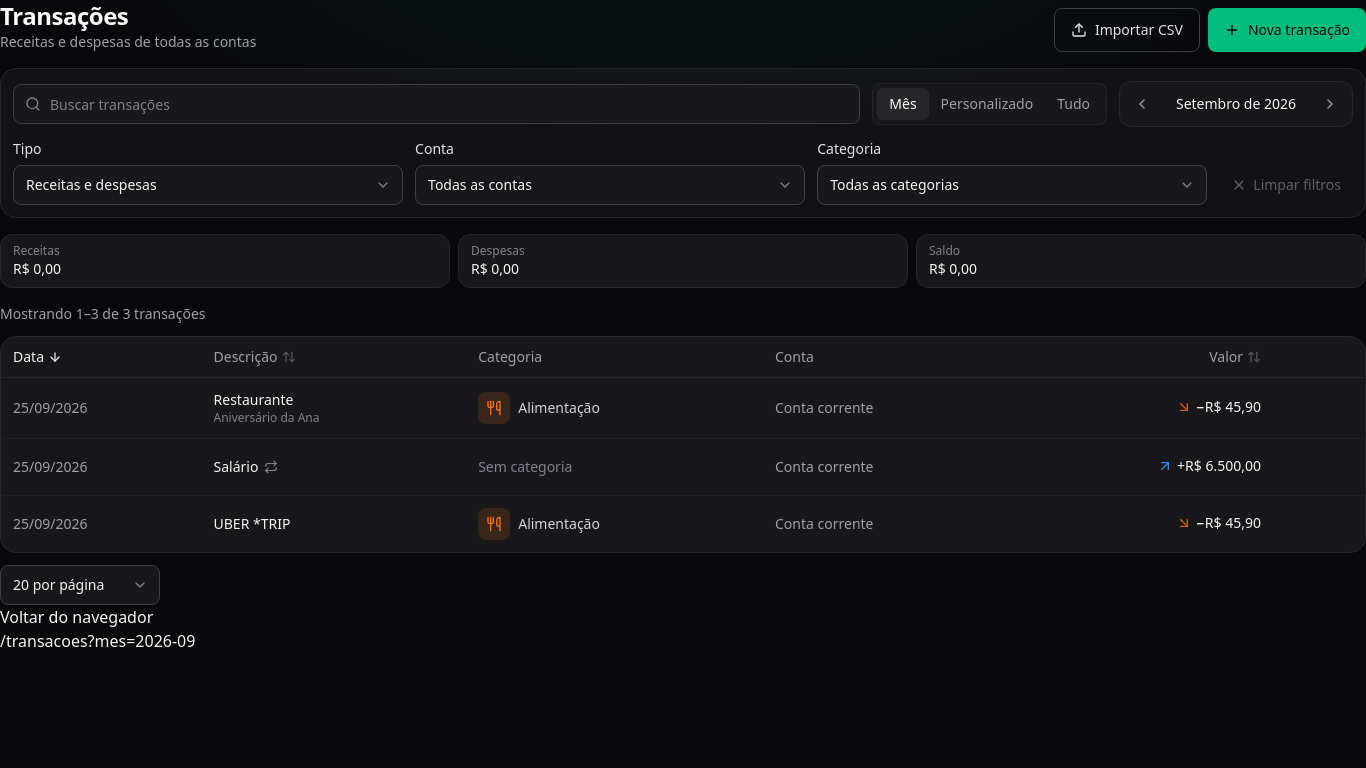
Test: transaction detail drawer › links to the recurrence that generated it, and back
Click the button "Salário" at (236, 467), box [214,457,258,477]
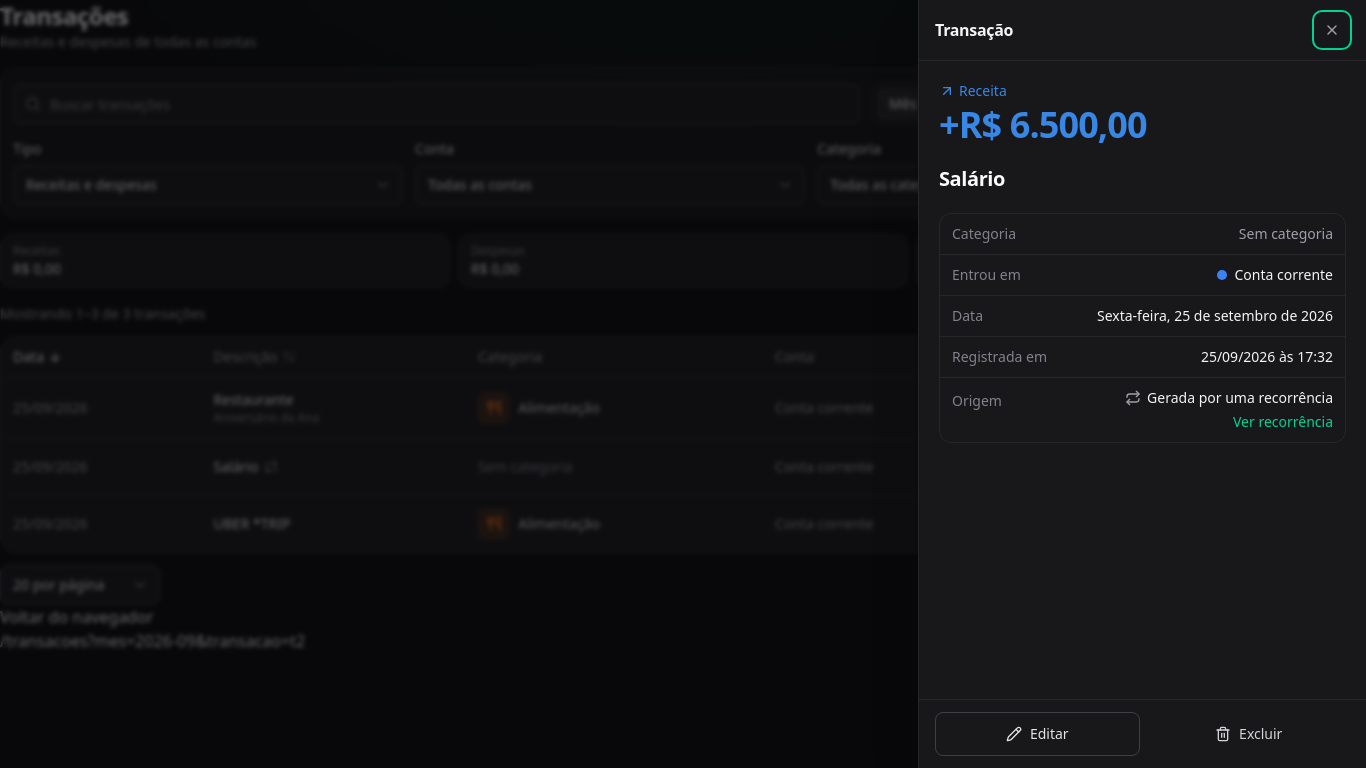
expect the dialog named "Detalhes da transação: Salário" shows "Entrou em": met, box [952,265,1021,284]
expect the dialog named "Detalhes da transação: Salário" shows "Gerada por uma recorrência": met, box [1147,388,1333,407]
Click the link "Ver recorrência" at (1283, 422), box [1233,412,1333,432]
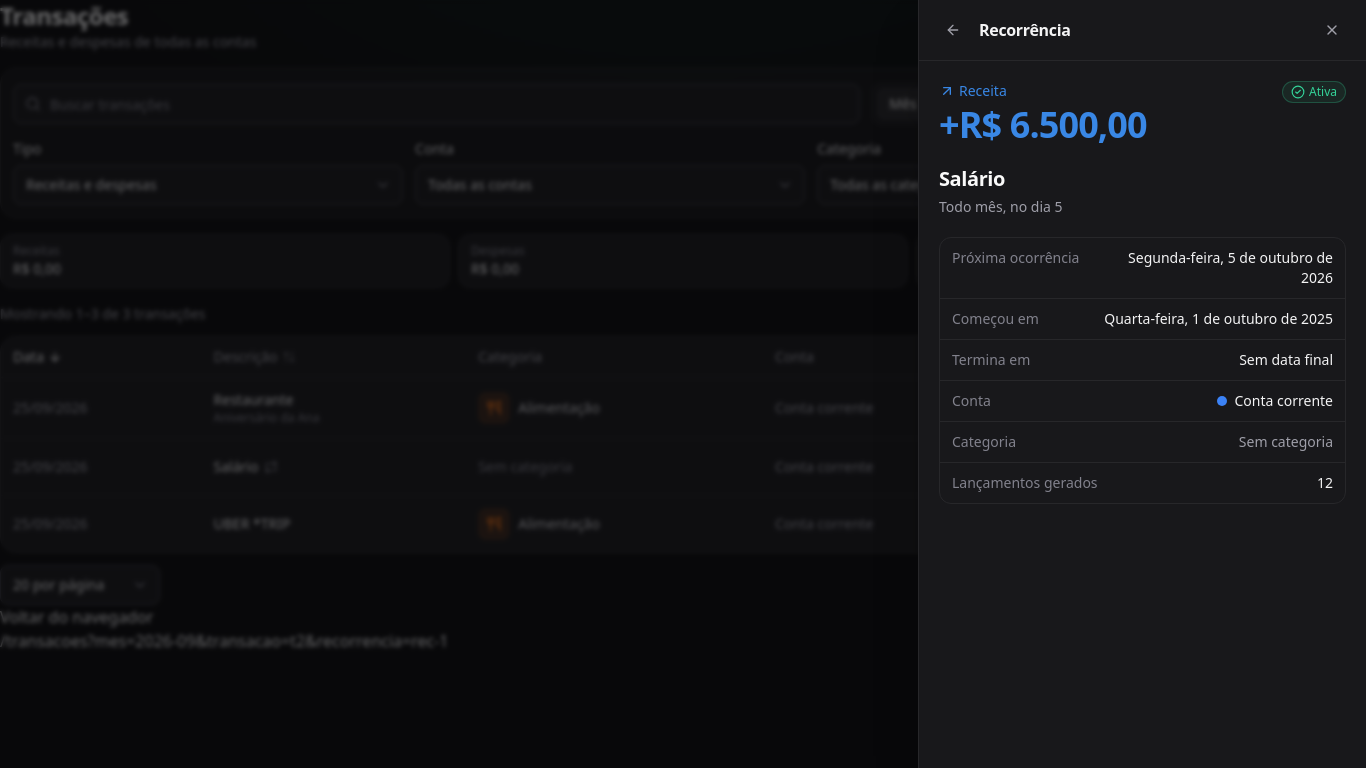
expect the text with test id "location" shows "transacao=t2&recorrencia=rec-1": met, box [88,630,448,652]
expect the dialog named "Detalhes da recorrência: Salário" shows "Todo mês, no dia 5": met, box [939,197,1063,216]
expect the dialog named "Detalhes da recorrência: Salário" shows "Segunda-feira, 5 de outubro de 2026": met, box [1128,248,1333,287]
Click the button named "Voltar para a transação" at (953, 30), box [935,12,971,48]
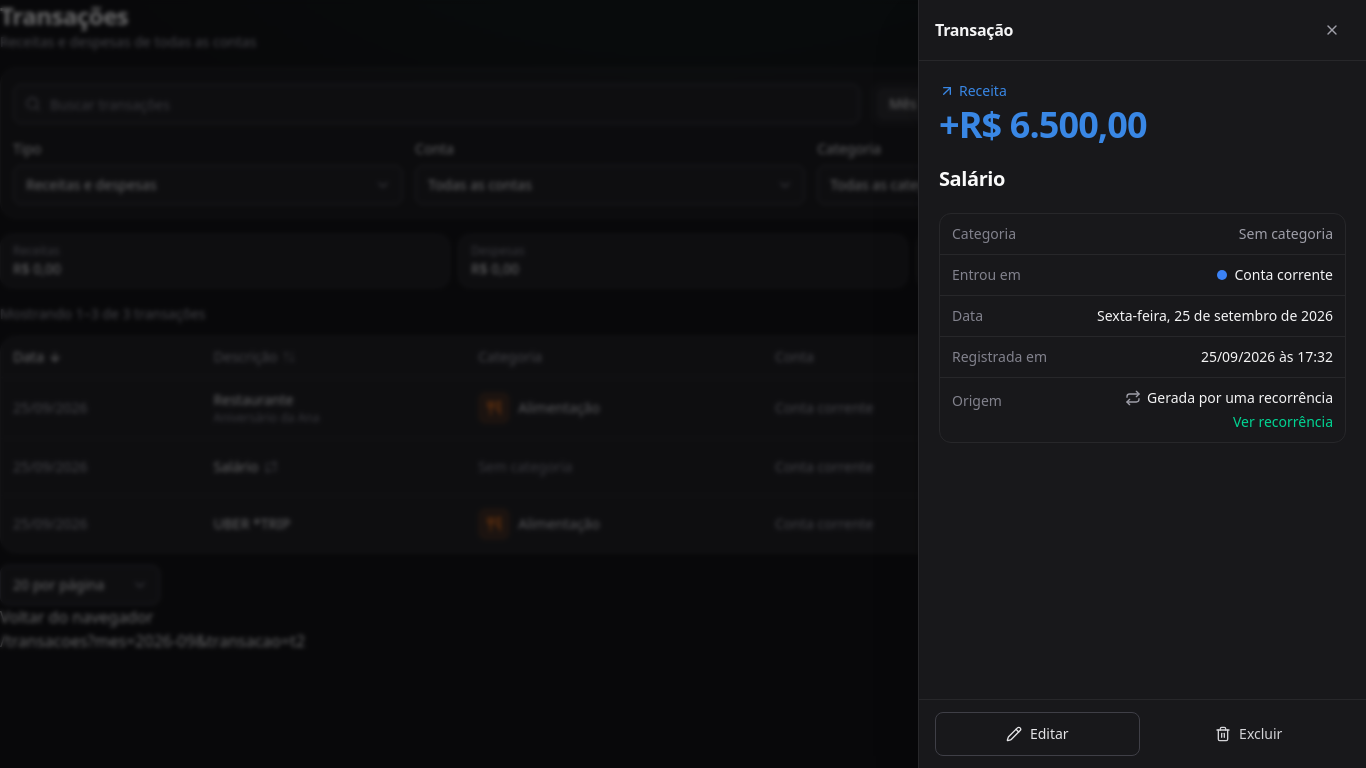
expect the dialog named "Detalhes da transação: Salário" is shown: met, box [918,0,1365,767]
Press Escape
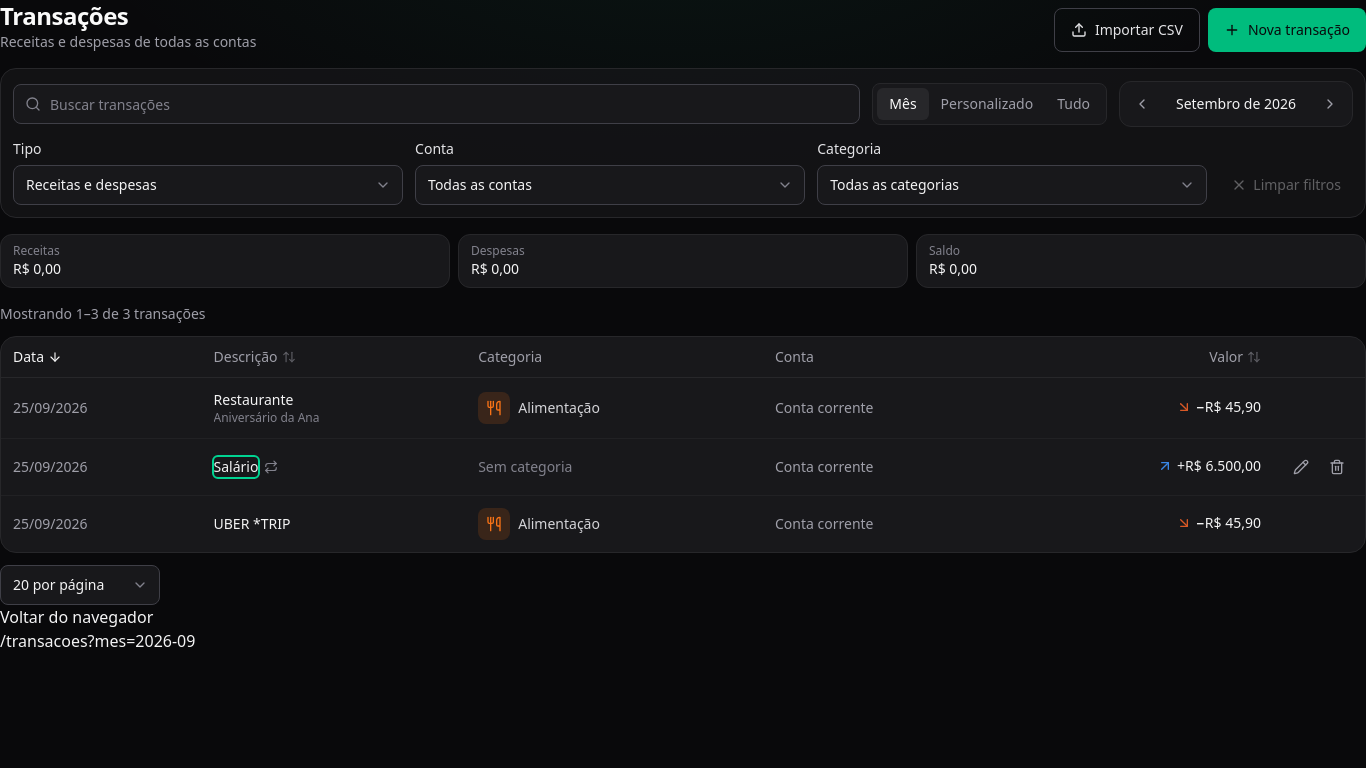
expect the text with test id "location" reads "/transacoes?mes=2026-09": met, box [0,630,195,652]
